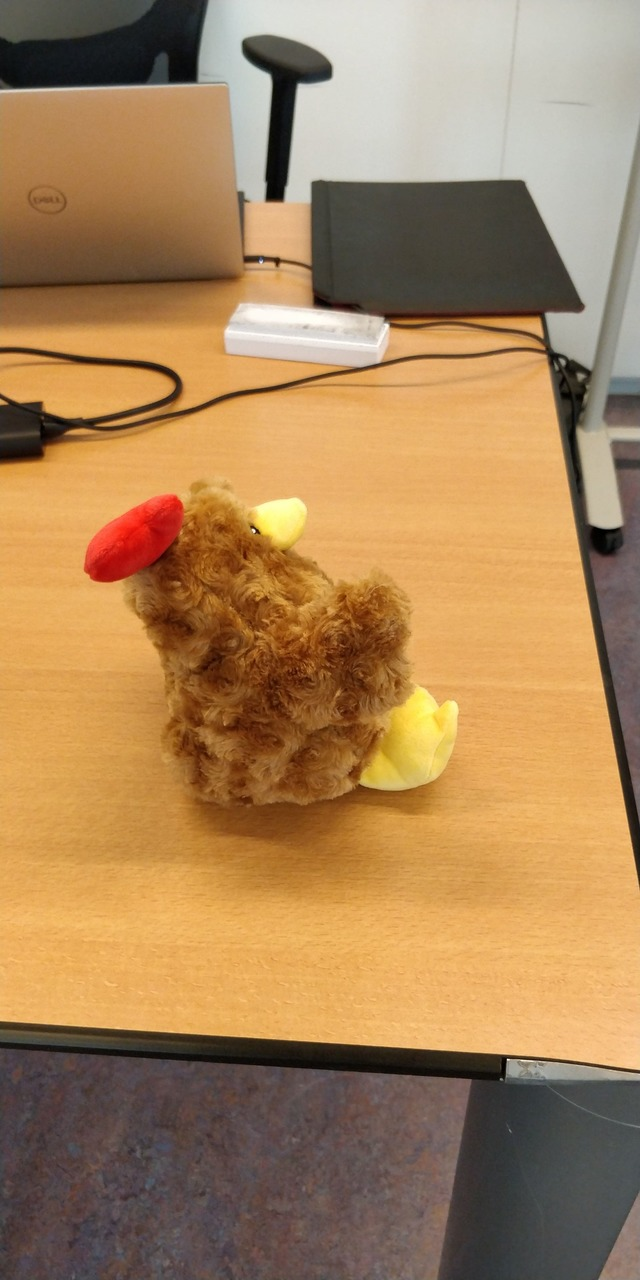fakeChicken: (83, 477, 460, 809)
